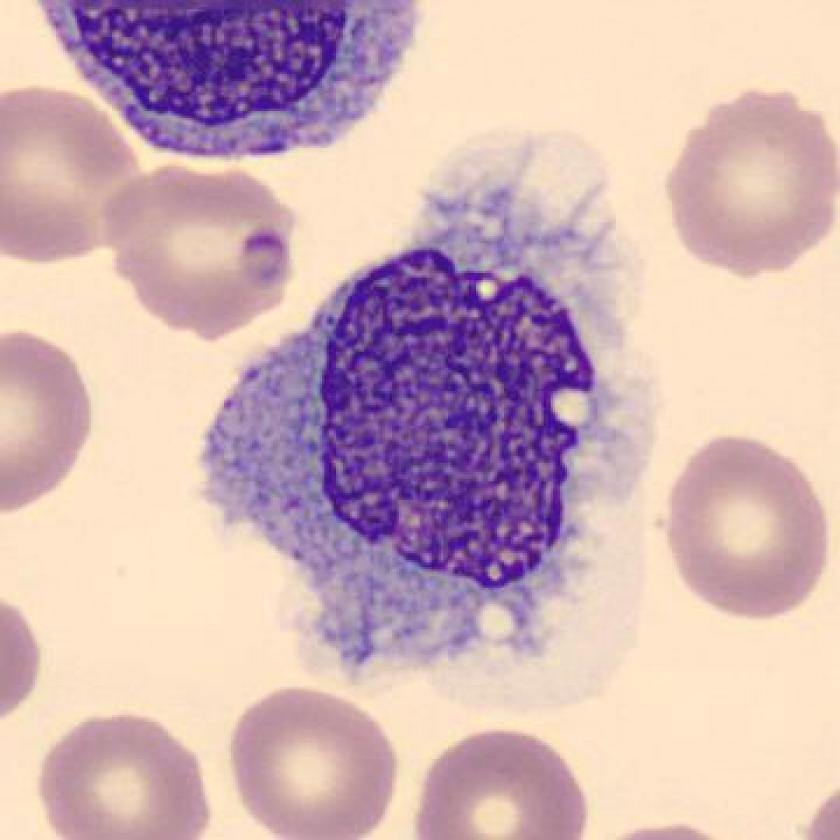monocyte: (185, 121, 678, 716)
